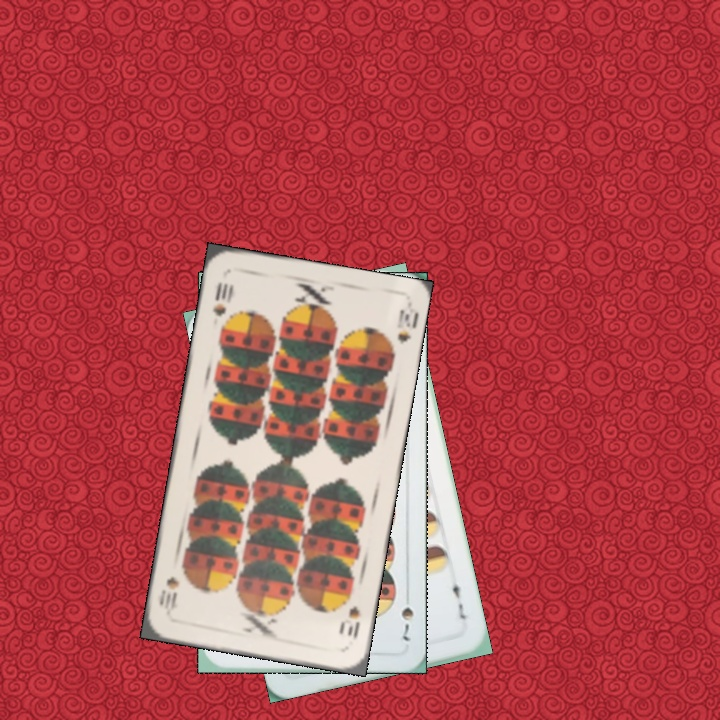E7: (448, 574, 471, 623)
S10: (209, 277, 235, 319), (343, 602, 363, 643)
S7: (397, 603, 416, 644)
